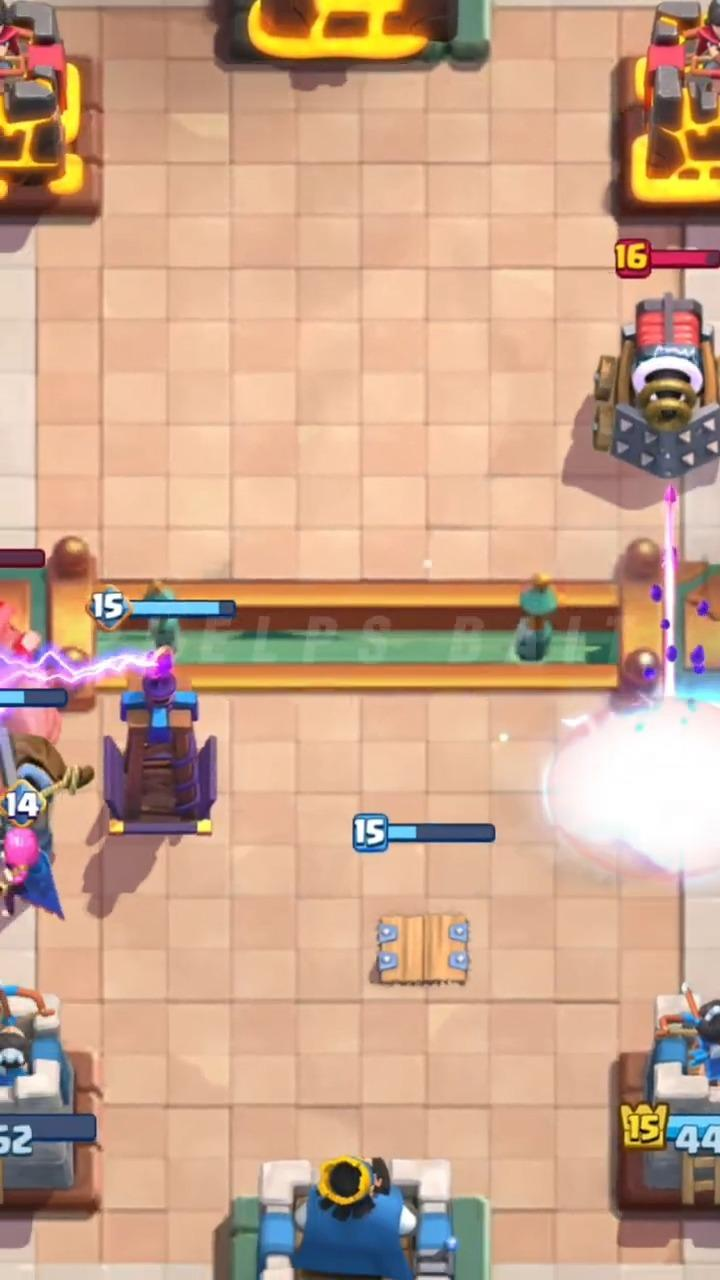archer: (3, 827, 63, 917)
sparky: (592, 293, 719, 484)
tesla: (104, 647, 216, 836), (376, 913, 469, 984)
